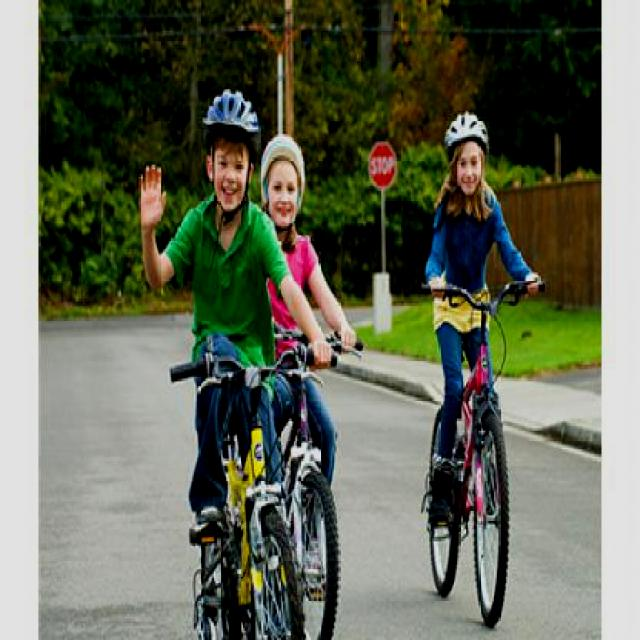With Helmet: (200, 80, 263, 214), (440, 106, 492, 205), (259, 132, 307, 234)
